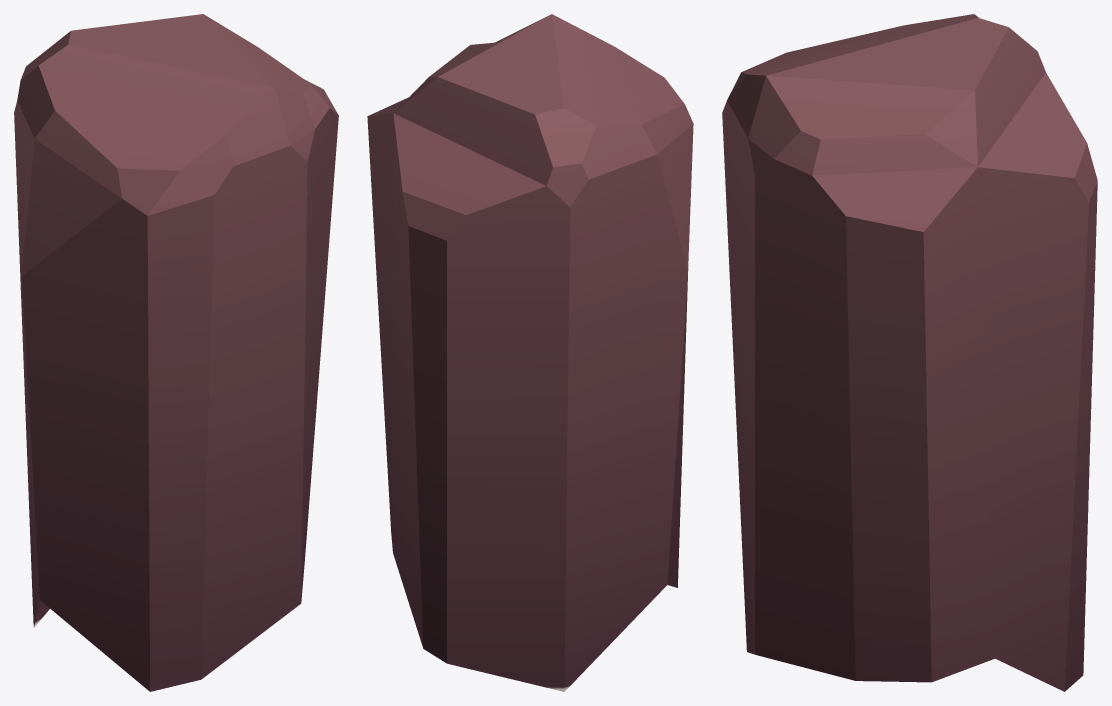
File: column_lev_5.fbx
The picture shows the model from 3 angles, left to right: view 1: azimuth 30°, elevation 25°; view 2: azimuth 150°, elevation 25°; view 3: azimuth 270°, elevation 25°; orthographic projection. The views are drawn at different scales.
Parts seen in each view (by area): view 1: column_lev_6; view 2: column_lev_6; view 3: column_lev_6.
Boxes of the visible parts, left/top/right/bottom form: column_lev_6: left=14, top=14, right=338, bottom=691; column_lev_6: left=367, top=14, right=693, bottom=691; column_lev_6: left=722, top=14, right=1097, bottom=691.
Size of the model in its own units: 3007 by 5353 by 2800.
